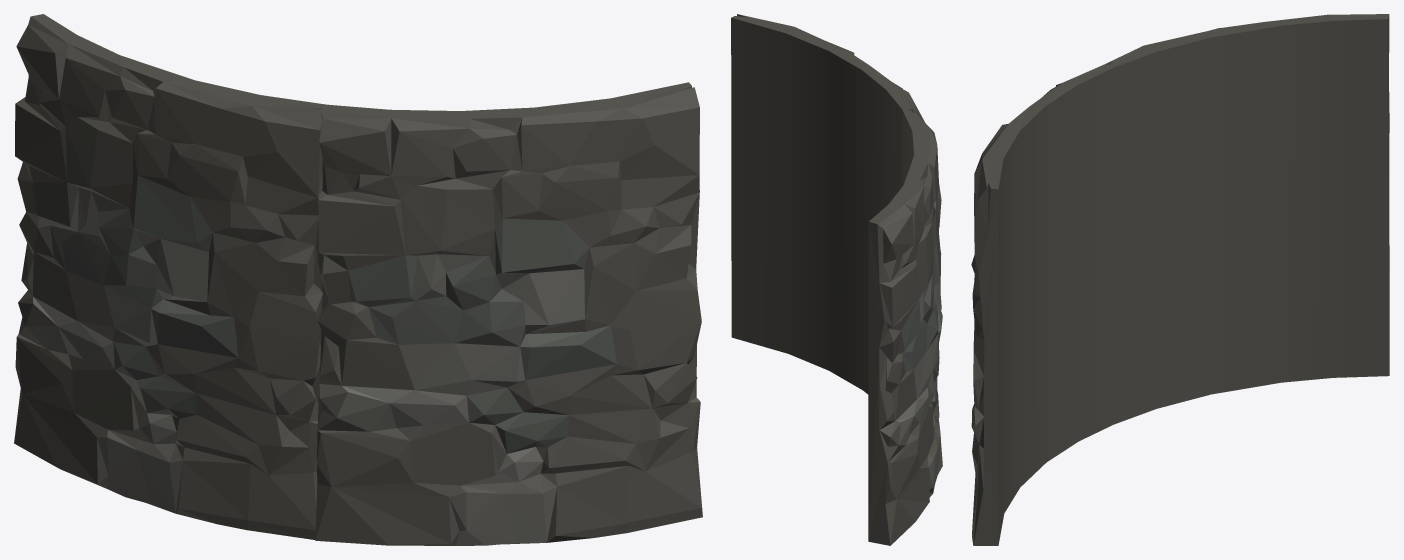
The model's file is MDungeon_Walls_Base_Curve_02.FBX.
The picture shows the model from 3 angles, left to right: view 1: azimuth 30°, elevation 25°; view 2: azimuth 150°, elevation 25°; view 3: azimuth 270°, elevation 25°; orthographic projection. The views are drawn at different scales.
Visible parts, largest first — view 1: MDungeon_Walls_Base_Curve_02_LOD0; view 2: MDungeon_Walls_Base_Curve_02_LOD0; view 3: MDungeon_Walls_Base_Curve_02_LOD0.
Boxes of the visible parts, bbox=[...] form: MDungeon_Walls_Base_Curve_02_LOD0: bbox=[14, 14, 702, 545]; MDungeon_Walls_Base_Curve_02_LOD0: bbox=[731, 14, 942, 545]; MDungeon_Walls_Base_Curve_02_LOD0: bbox=[971, 14, 1389, 545].
Size of what is drawn, in the model's own units: 6.6 by 6.02 by 6.38.
